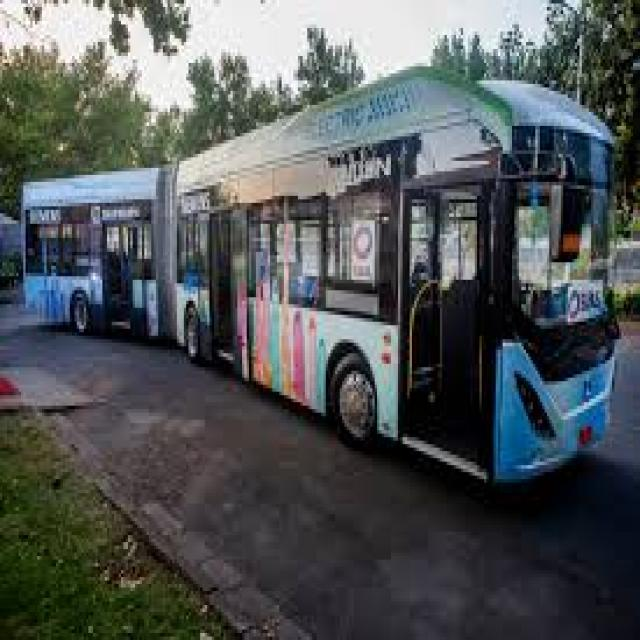AB: (19, 59, 616, 532)
